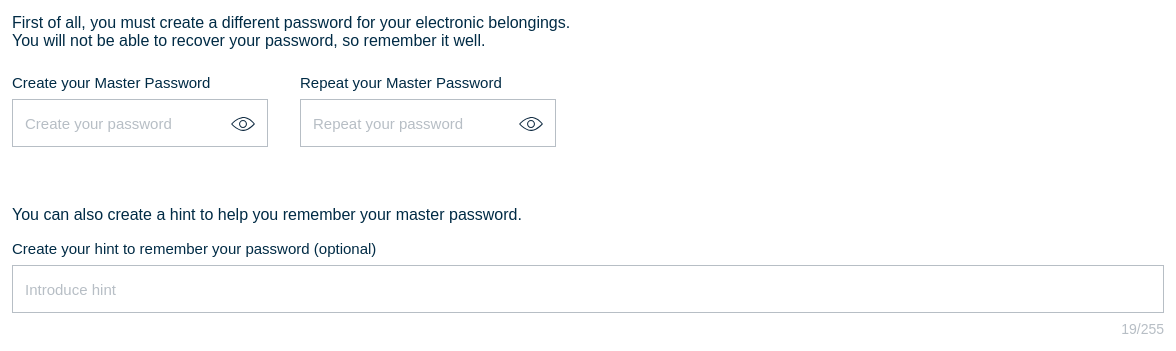
Given a Form view › When repeatPassword does not match createPassword › Then it should show 'Password mismatch' error text
The width and height of the screenshot is (1176, 351).
Type "12345678a" into the password field with test id "repeatPassword" at (428, 123), box [300,99,556,147]
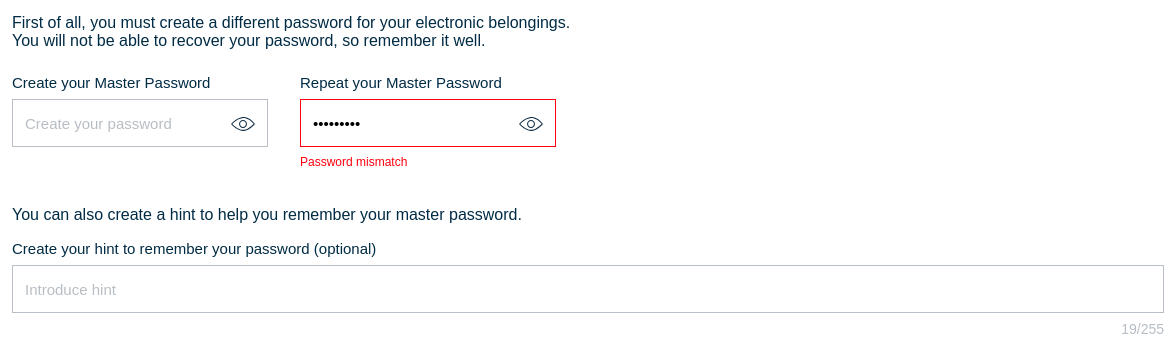
Now the text "Password mismatch" is shown, box [300,155,407,169]
